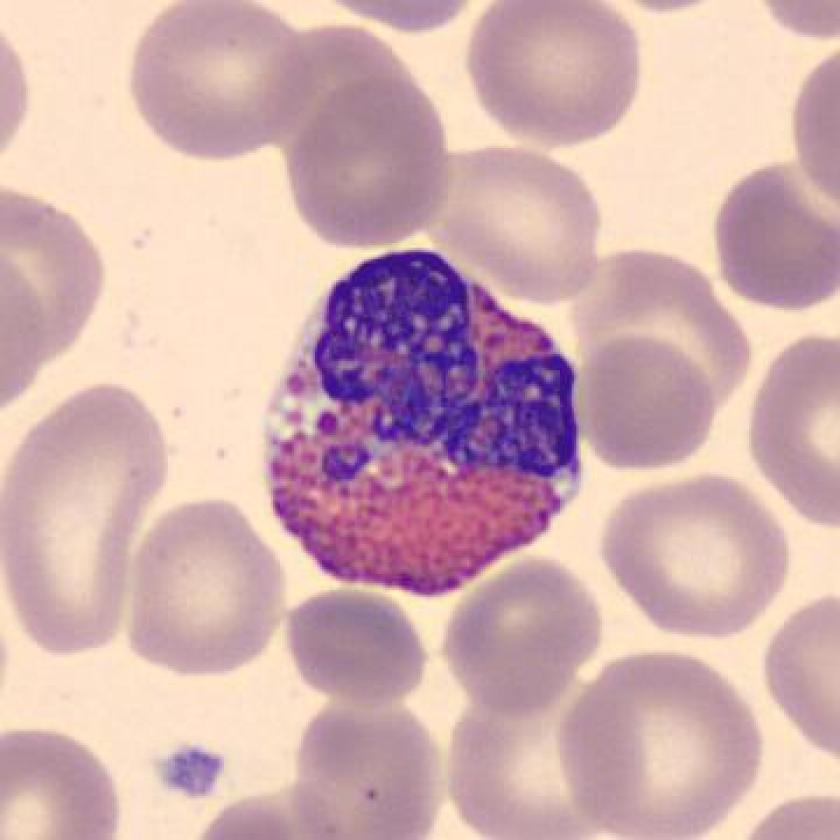eosinophil: (251, 240, 601, 608)
